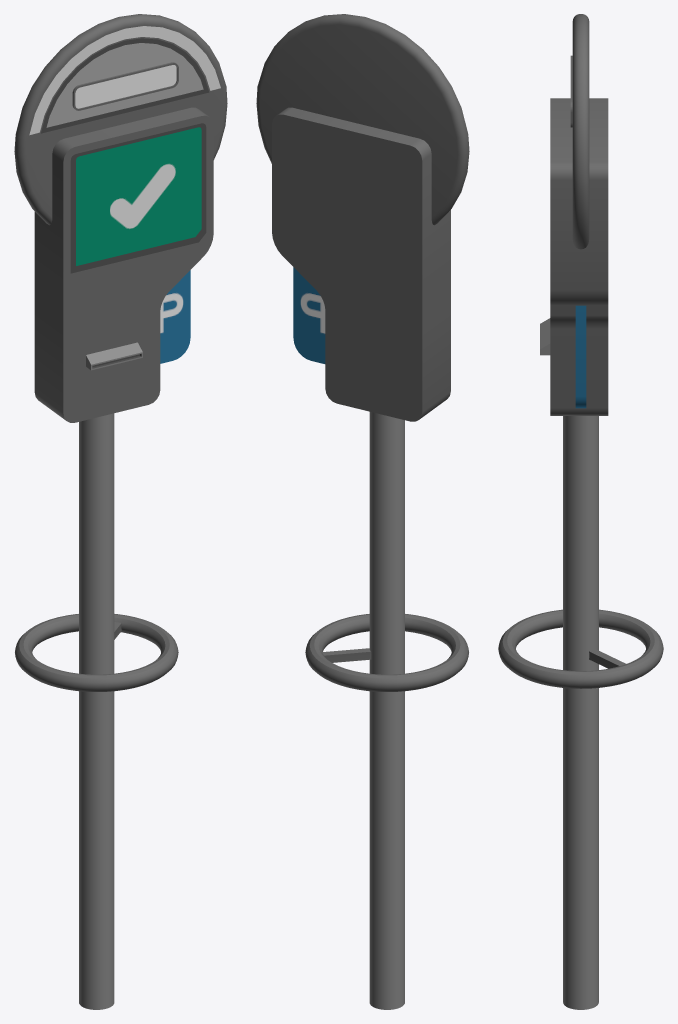
File: ParkSign.fbx
The picture shows the model from 3 angles, left to right: view 1: azimuth 30°, elevation 25°; view 2: azimuth 150°, elevation 25°; view 3: azimuth 270°, elevation 25°; orthographic projection.
Parts seen in each view (by area): view 1: ParkSign, PSOGreen; view 2: ParkSign; view 3: ParkSign.
Part boxes in pixels (x1,y1,x2,y2): ParkSign: (14, 14, 227, 1009); PSOGreen: (76, 127, 201, 265); ParkSign: (256, 14, 469, 1009); ParkSign: (498, 14, 663, 1009).
Size of the model in its own units: 68.48 by 305 by 46.2.
